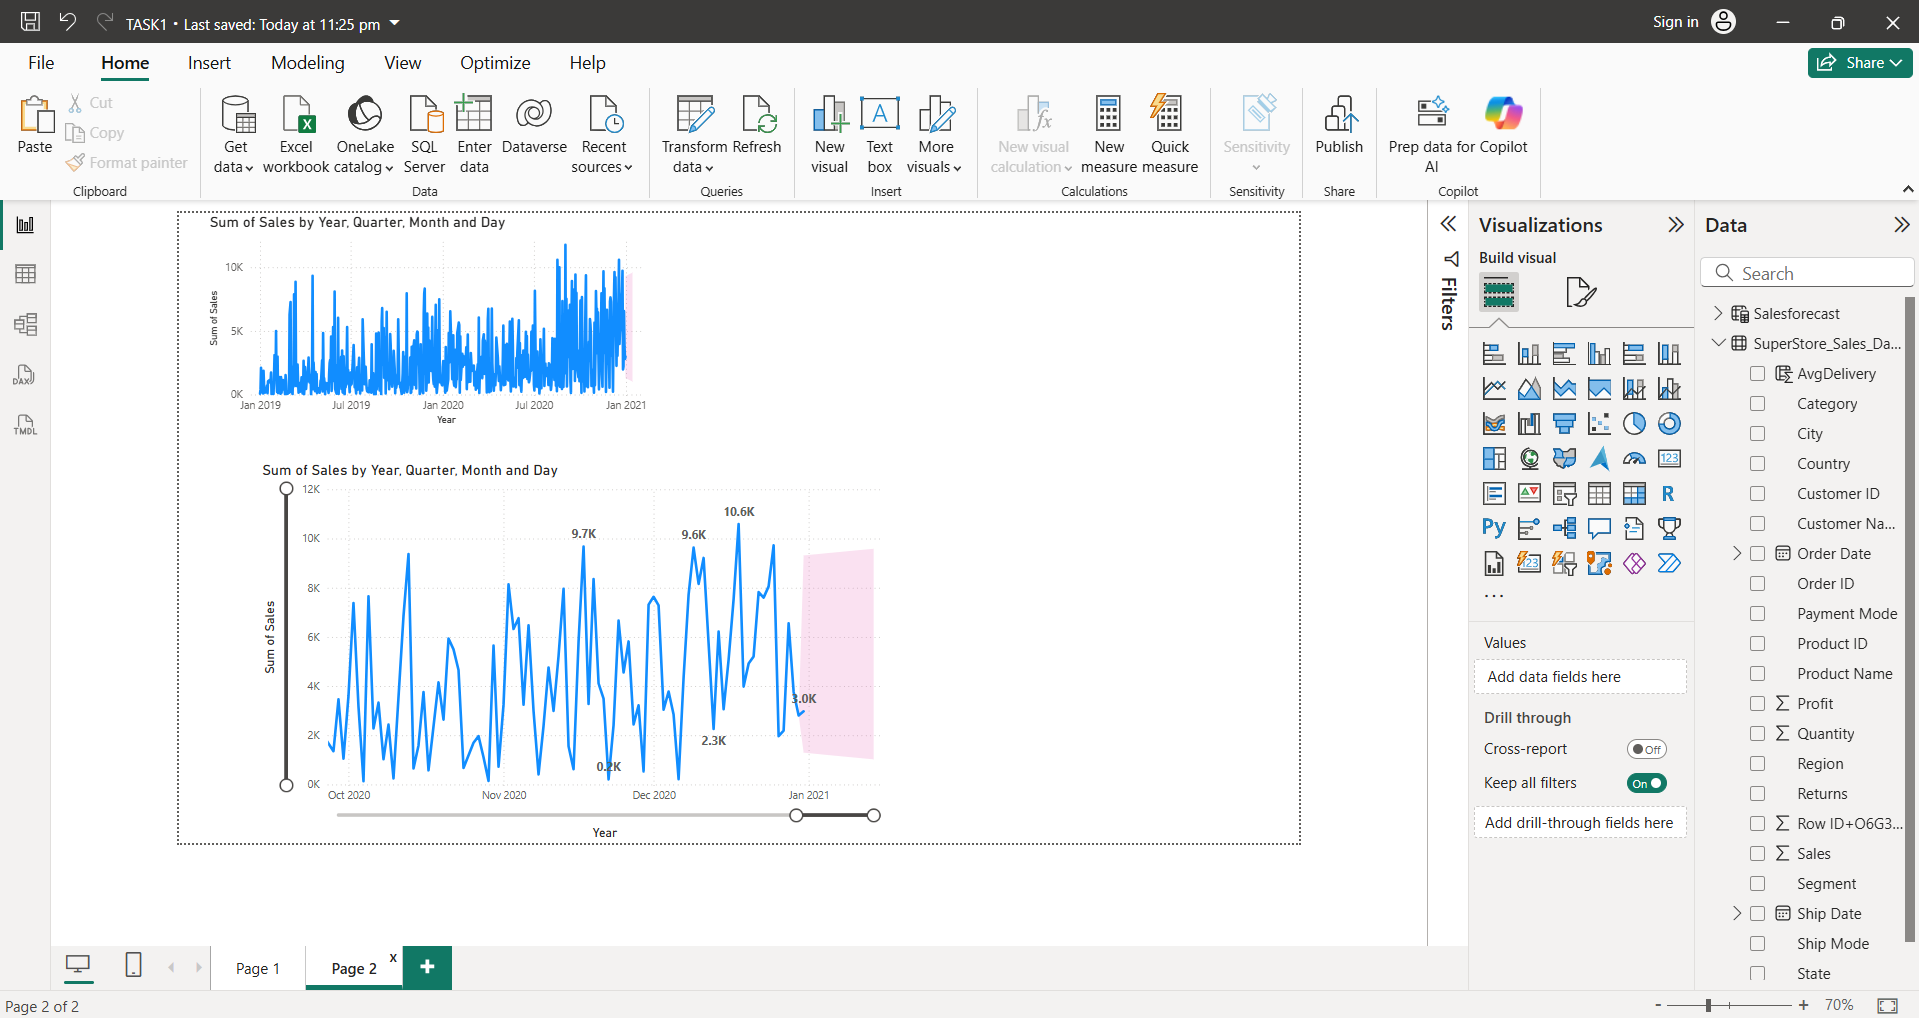

The page's visual inventory and layout, read from the dashboard file:
{"tool":"powerbi","page":{"name":"Page 2","canvas":[1280,720],"ordinal":1},"visuals":[{"type":"lineChart","fields":{"Y":["Sum(SuperStore_Sales_Dataset.Sales)"],"Category":["SuperStore_Sales_Dataset.Order Date.Variation.Date Hierarchy.Year","SuperStore_Sales_Dataset.Order Date.Variation.Date Hierarchy.Quarter","SuperStore_Sales_Dataset.Order Date.Variation.Date Hierarchy.Month","SuperStore_Sales_Dataset.Order Date.Variation.Date Hierarchy.Day"]},"box":[30,0,517.5,247.5],"z":0},{"type":"lineChart","fields":{"Y":["Sum(SuperStore_Sales_Dataset.Sales)"],"Category":["SuperStore_Sales_Dataset.Order Date.Variation.Date Hierarchy.Year","SuperStore_Sales_Dataset.Order Date.Variation.Date Hierarchy.Quarter","SuperStore_Sales_Dataset.Order Date.Variation.Date Hierarchy.Month","SuperStore_Sales_Dataset.Order Date.Variation.Date Hierarchy.Day"]},"box":[90,282.5,732.5,437.5],"z":1000}]}

Visuals, with their boxes on the page's 1280x720 design canvas (x1, y1, x2, y2). These are canvas units, not pixel positions in the 1919x1018 screenshot, which may show the page scaled, cropped or inside an application window:
lineChart - Sum(SuperStore_Sales_Dataset.Sales) x SuperStore_Sales_Dataset.Order Date.Variation.Date Hierarchy.Year: 30/0/548/248
lineChart - Sum(SuperStore_Sales_Dataset.Sales) x SuperStore_Sales_Dataset.Order Date.Variation.Date Hierarchy.Year: 90/282/822/720
